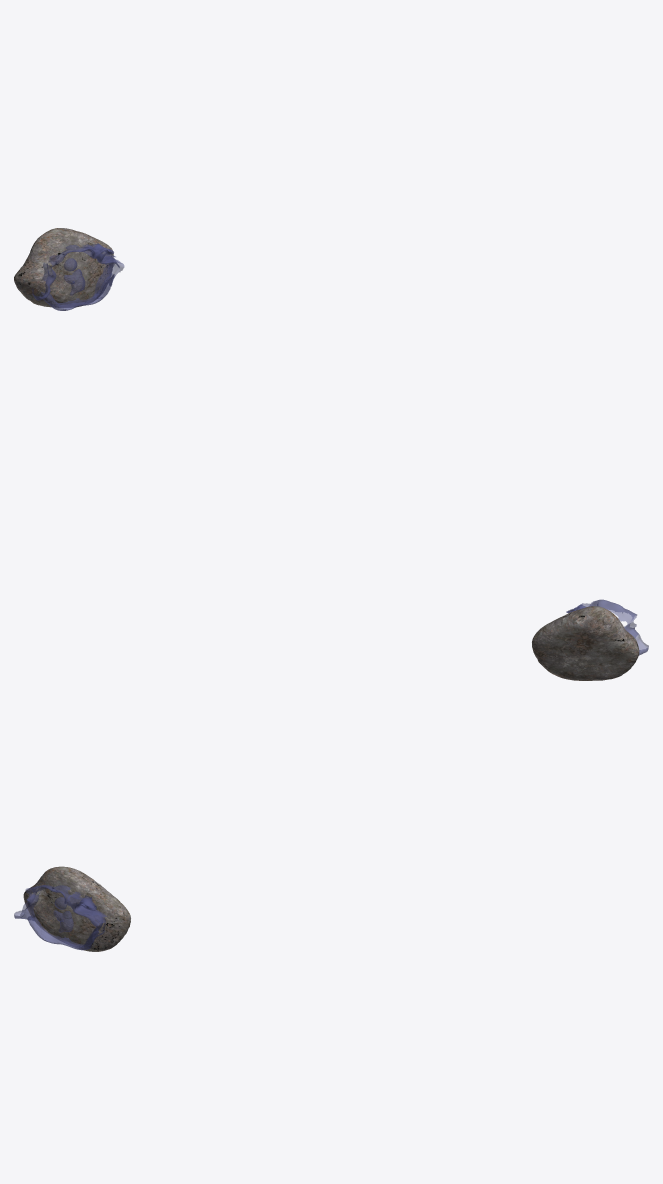
File: deck_btn_2-CMun63dg.glb
3 views of the same model, one above another, from view 1: azimuth 30°, elevation 25°; view 2: azimuth 150°, elevation 25°; view 3: azimuth 330°, elevation 25° (orthographic). The views are drawn at different scales.
Parts seen in each view (by area): view 1: body, mech; view 2: body, mech; view 3: body, mech.
Boxes of the visible parts, <box> form: body: <box>14,228,113,307</box>; mech: <box>32,243,124,310</box>; body: <box>532,606,639,680</box>; mech: <box>566,599,648,655</box>; body: <box>23,866,130,951</box>; mech: <box>14,885,107,950</box>.
Size of the model in its own units: 3.92 by 1.39 by 0.3534.
3 materials, 1 textured.
